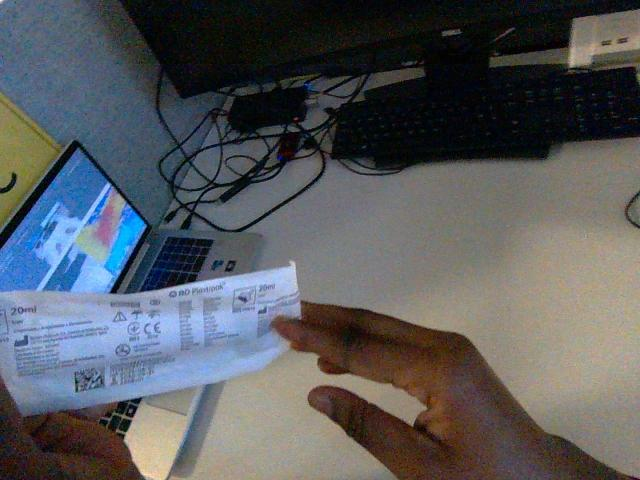syringe: (0, 262, 299, 414)
